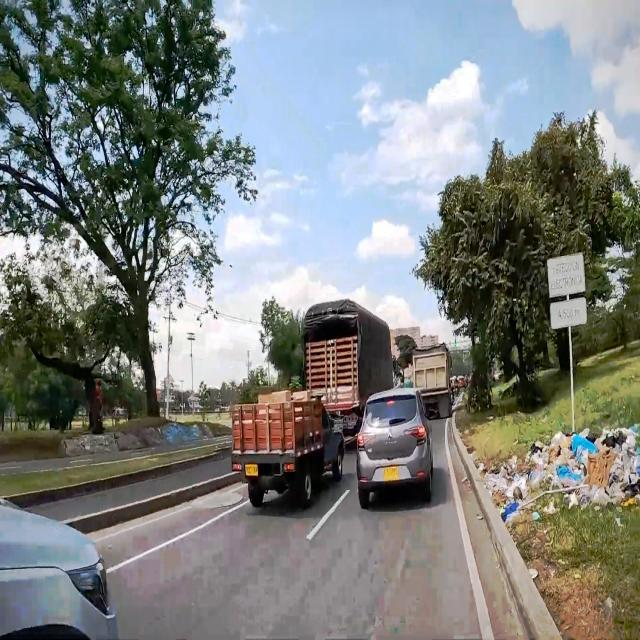license_plate: (244, 462, 258, 477)
